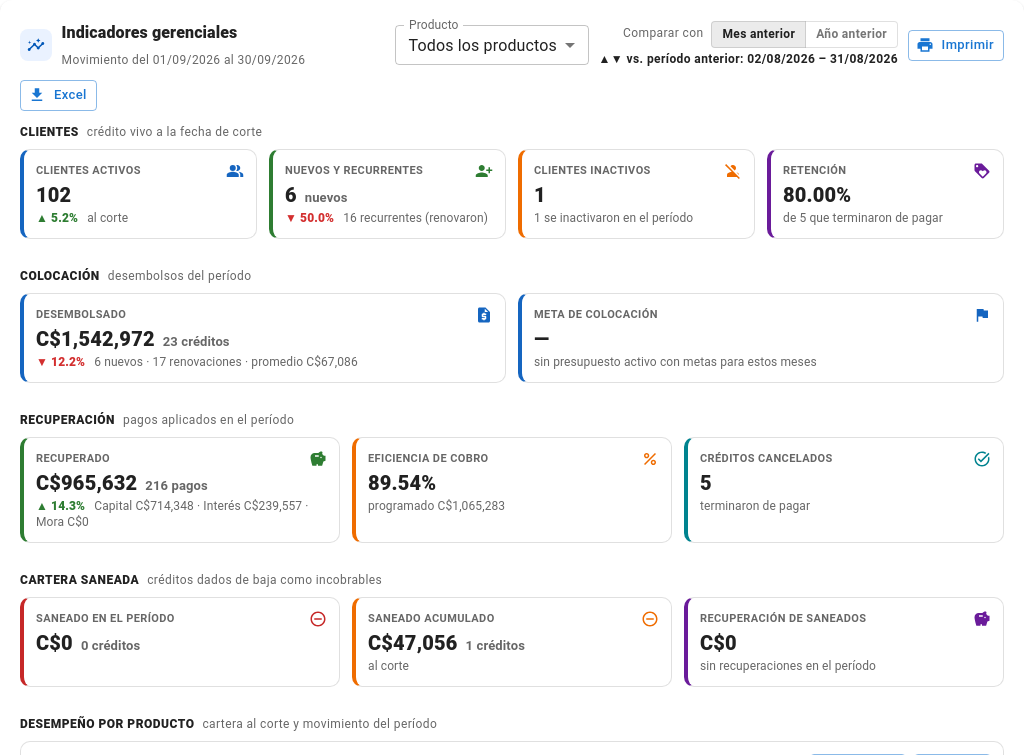
Test: Tablero gerencial: productos financieros › el filtro de producto vuelve a consultar con product_id y avisa que las metas no se desglosan
The image size is (1024, 755).
Press the mouse on the dropdown labelled "producto" at (483, 45), box [409,36,557,55]
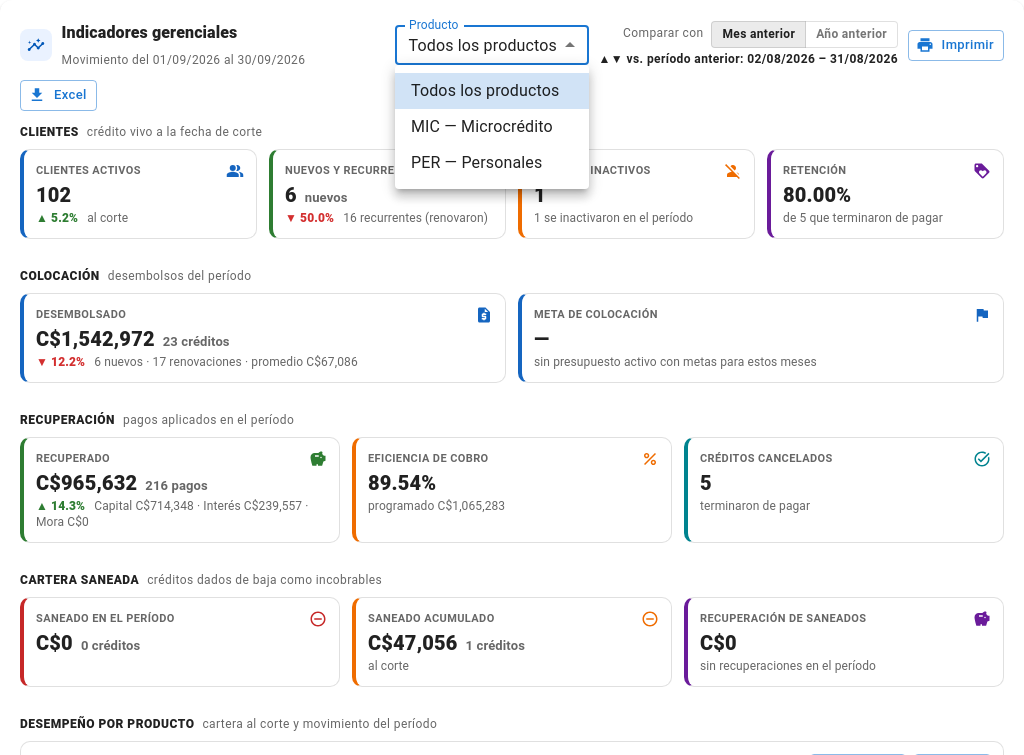
Click the option "PER — Personales" at (477, 162), box [411,153,542,172]
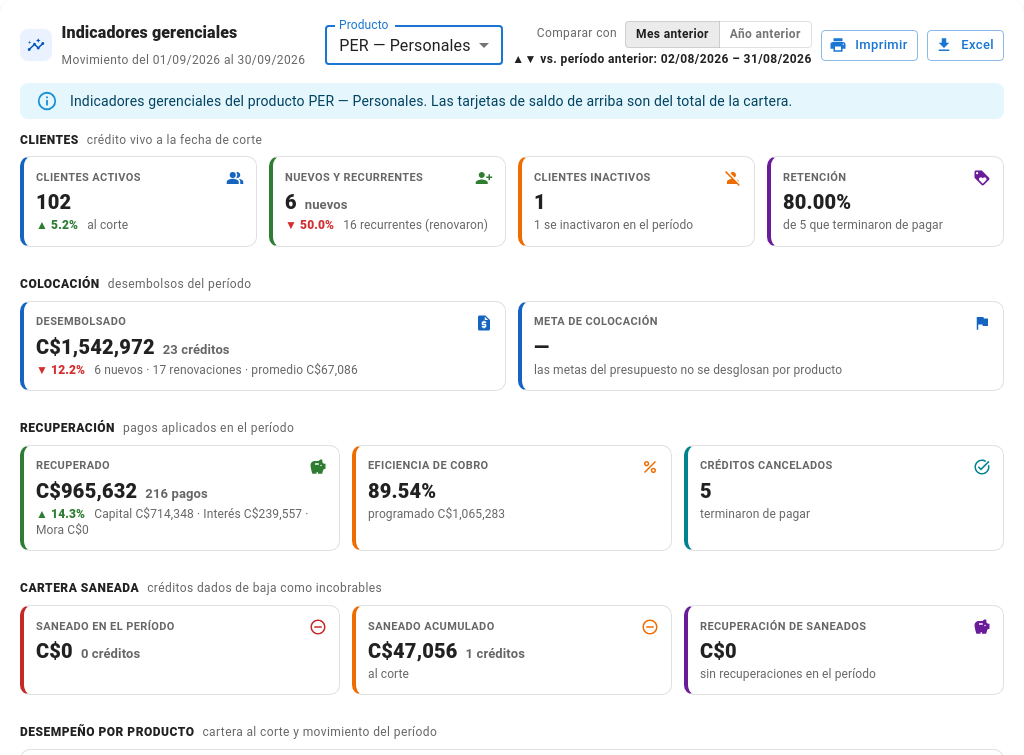
Expected: the text "Indicadores gerenciales del producto PER — Personales" is shown, [70,92,792,108]
Expected: the text "las metas del presupuesto no se desglosan por producto" is shown, [534,362,842,376]
